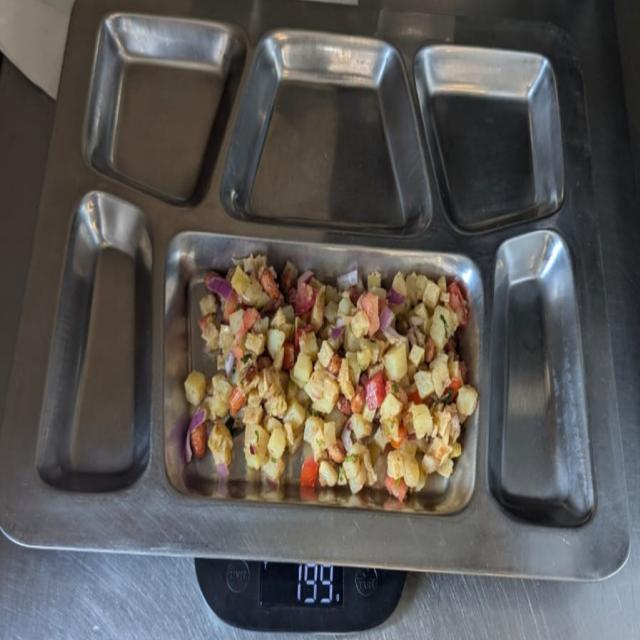Chaat: (199, 268, 458, 488)
